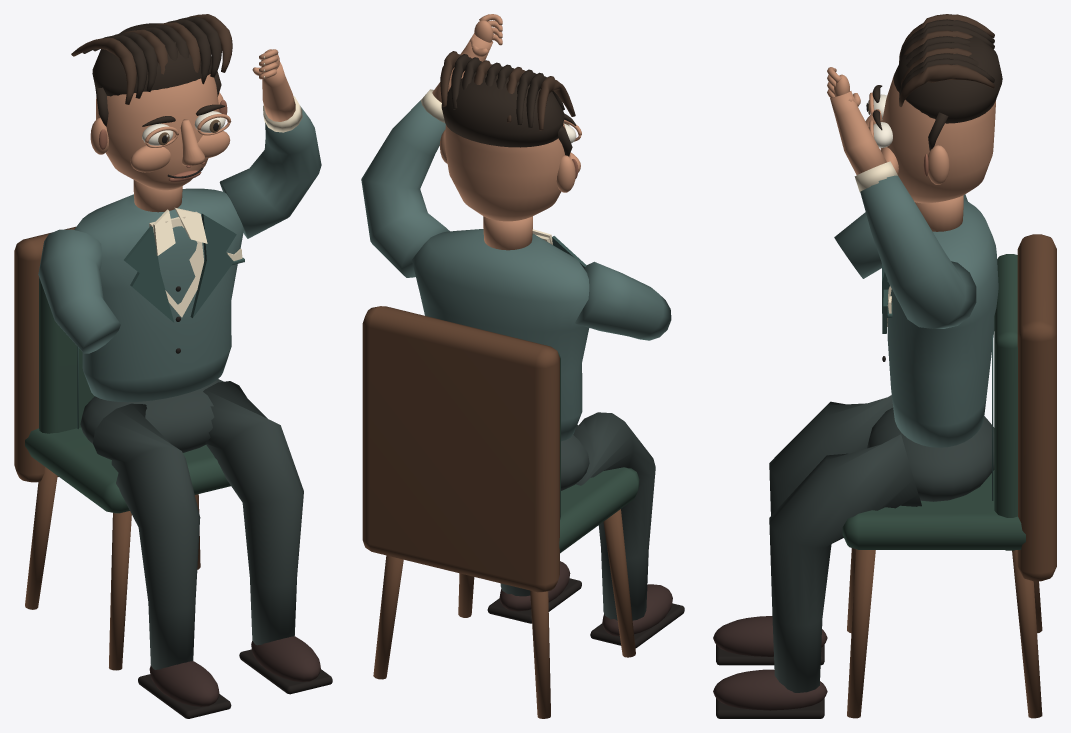
Rendered from poker-person.glb.
3 views of the same model, side by side, from view 1: azimuth 30°, elevation 25°; view 2: azimuth 150°, elevation 25°; view 3: azimuth 270°, elevation 25° (orthographic). The views are drawn at different scales.
Visible parts, largest first — view 1: Tailored slate jacket, Charcoal wool trousers, Warm skin, Oiled walnut.001, Chair olive upholstery, Espresso swept hair, Polished oxblood shoe, Lapel and seam cloth, Unbleached shirt cotton, Chestnut hair planes, Pupil and lash detail, Warm eye white; view 2: Oiled walnut.001, Tailored slate jacket, Warm skin, Charcoal wool trousers, Espresso swept hair, Chair olive upholstery, Polished oxblood shoe, Chestnut hair planes, Pupil and lash detail, Unbleached shirt cotton; view 3: Charcoal wool trousers, Tailored slate jacket, Oiled walnut.001, Chair olive upholstery, Warm skin, Espresso swept hair, Polished oxblood shoe, Chestnut hair planes, Pupil and lash detail, Lapel and seam cloth, Unbleached shirt cotton, Warm eye white.
Boxes of the visible parts, x1,y1,x2,y2 form: Tailored slate jacket: (38,106,321,402); Charcoal wool trousers: (80,379,303,669); Warm skin: (90,49,295,212); Oiled walnut.001: (14,226,200,670); Chair olive upholstery: (25,277,230,513); Espresso swept hair: (82,16,225,126); Polished oxblood shoe: (149,636,320,706); Lapel and seam cloth: (77,213,244,428); Unbleached shirt cotton: (149,56,302,317); Chestnut hair planes: (71,14,232,104); Pupil and lash detail: (138,123,332,718); Warm eye white: (142,111,225,145); Oiled walnut.001: (362,306,635,718); Tailored slate jacket: (361,100,671,441); Warm skin: (432,14,581,250); Charcoal wool trousers: (500,412,655,620); Espresso swept hair: (441,54,576,156); Chair olive upholstery: (558,352,639,553); Polished oxblood shoe: (499,561,672,636); Chestnut hair planes: (440,51,575,130); Pupil and lash detail: (487,578,684,648); Unbleached shirt cotton: (420,89,552,244); Charcoal wool trousers: (769,395,994,692); Tailored slate jacket: (834,175,998,447); Oiled walnut.001: (847,234,1056,718); Chair olive upholstery: (842,254,1025,550); Warm skin: (827,67,995,231); Espresso swept hair: (872,19,1002,150); Polished oxblood shoe: (713,616,827,710); Chestnut hair planes: (899,14,994,106); Pupil and lash detail: (716,103,885,718); Lapel and seam cloth: (882,264,993,500); Unbleached shirt cotton: (854,161,897,326); Warm eye white: (866,94,892,147).
Size of the model in its own units: 1.15 by 2.37 by 1.14.
